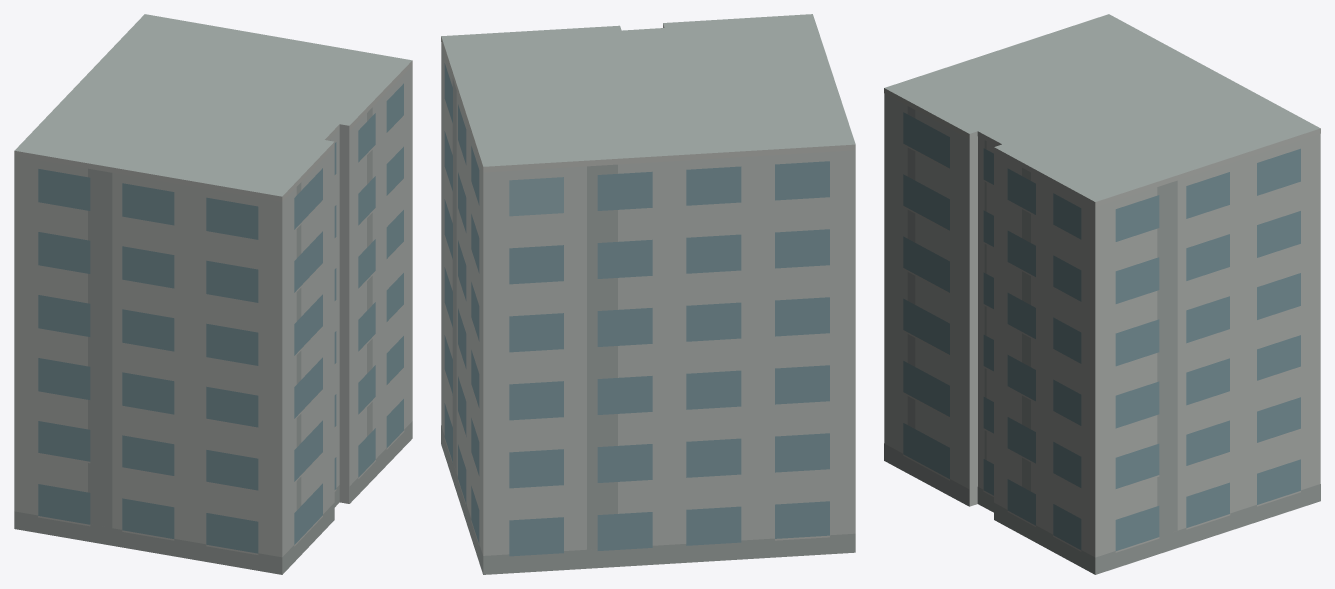
The model's file is survey-upis-32697262.glb.
The picture shows the model from 3 angles, left to right: view 1: azimuth 30°, elevation 25°; view 2: azimuth 150°, elevation 25°; view 3: azimuth 270°, elevation 25°; orthographic projection. The views are drawn at different scales.
Parts seen in each view (by area): view 1: survey-upis-32697262.tmp; view 2: survey-upis-32697262.tmp; view 3: survey-upis-32697262.tmp.
Part boxes in pixels (x1,y1,x2,y2): survey-upis-32697262.tmp: (14,14,412,574); survey-upis-32697262.tmp: (441,14,855,574); survey-upis-32697262.tmp: (884,14,1320,574).
Bounding box in the file's own units: 18.73 × 17.3 × 18.37.
